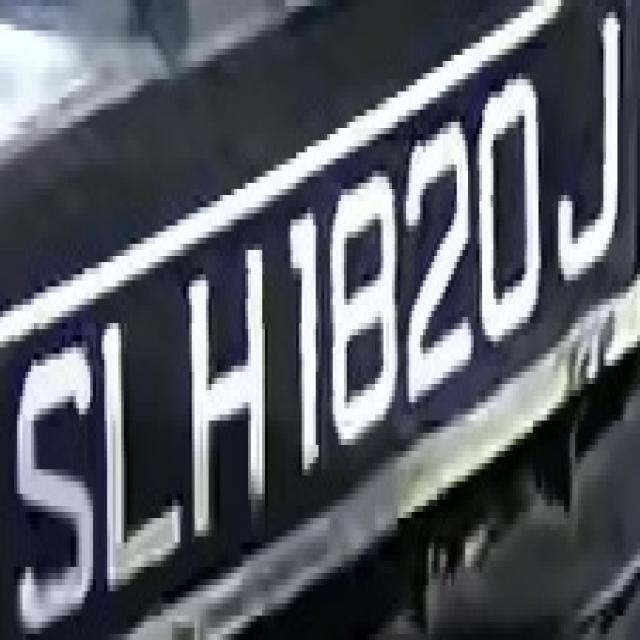0: (468, 67, 547, 347)
1: (279, 176, 330, 494)
2: (400, 116, 485, 402)
8: (318, 153, 401, 470)
H: (178, 238, 279, 542)
J: (550, 18, 626, 280)
L: (102, 305, 192, 585)
S: (8, 323, 96, 634)
